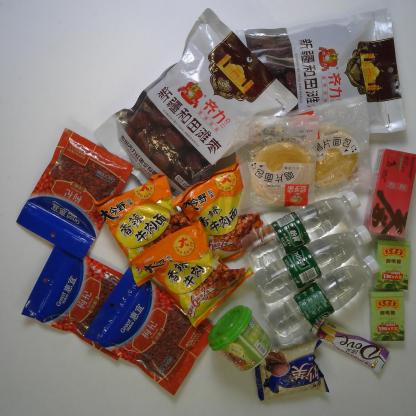Candy: (370, 237, 413, 291), (367, 289, 406, 343)
Chocolate: (308, 316, 392, 374)
Dessert: (278, 93, 375, 210), (230, 115, 322, 217), (249, 336, 331, 401)
Dried Food: (87, 4, 302, 213), (212, 6, 408, 151)
Dried Fruit: (82, 266, 219, 397), (14, 127, 136, 262), (18, 241, 153, 363)
Drink: (264, 252, 382, 346), (252, 223, 373, 305), (240, 190, 362, 270)
Instant Drink: (362, 146, 416, 241), (206, 304, 274, 373)
Instant Noodles: (129, 219, 253, 330), (90, 172, 208, 288), (169, 152, 277, 267)
